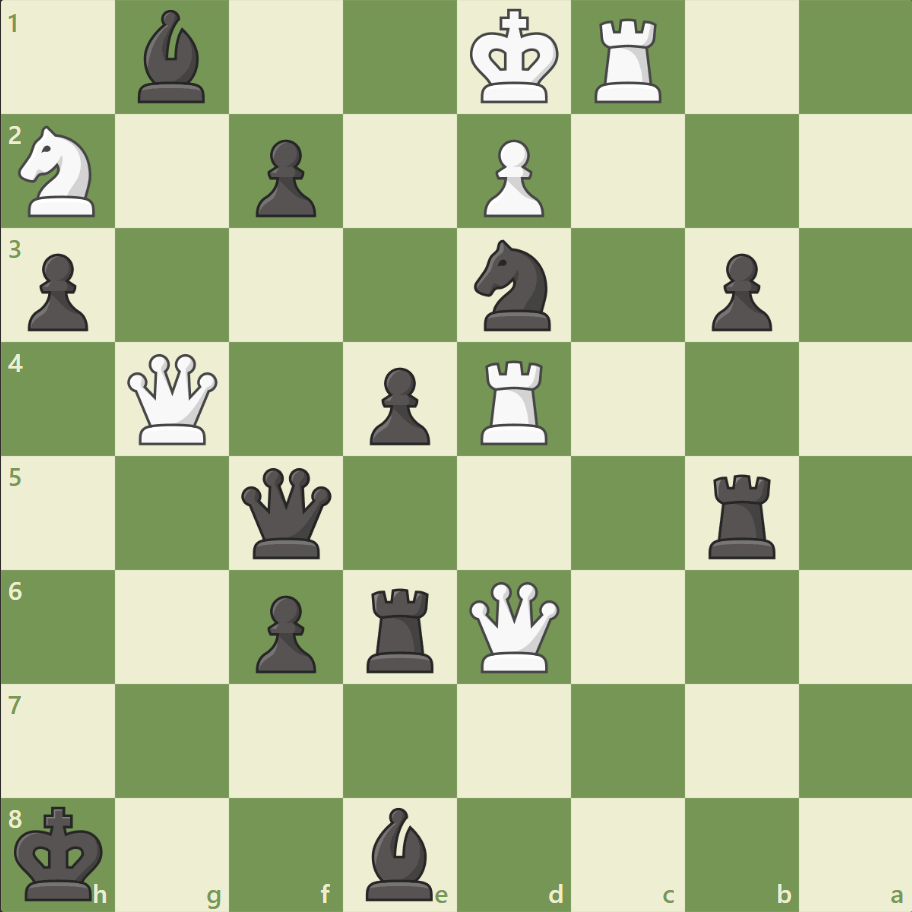K: (465, 4, 565, 112)
N: (11, 121, 108, 223)
P: (474, 132, 549, 223)
Q: (464, 576, 563, 676), (124, 349, 223, 449)
R: (473, 352, 556, 449), (587, 12, 670, 109)
b: (358, 801, 442, 904), (131, 6, 215, 109)
k: (11, 798, 111, 906)
n: (465, 234, 562, 337)
p: (247, 586, 322, 677), (701, 246, 776, 337), (20, 246, 95, 337), (247, 132, 322, 223), (361, 359, 435, 450)
q: (237, 463, 336, 562)
r: (700, 466, 783, 563), (360, 579, 442, 676)
